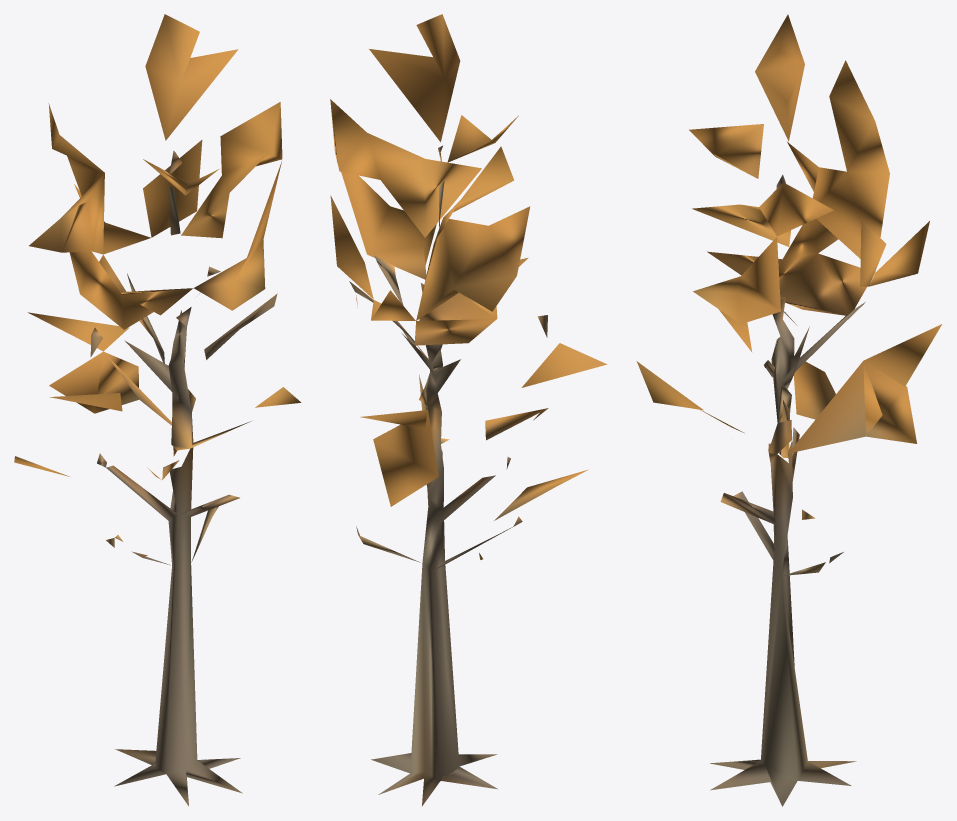
File: ginkgo_a_l2.glb
3 views of the same model, side by side, from view 1: azimuth 30°, elevation 25°; view 2: azimuth 150°, elevation 25°; view 3: azimuth 270°, elevation 25° (orthographic).
Visible parts, largest first — view 1: crown, trunk; view 2: crown, trunk; view 3: crown, trunk.
Part boxes in pixels (<box>): crown: <box>14,14,301,479</box>; trunk: <box>90,150,277,806</box>; crown: <box>330,14,607,520</box>; trunk: <box>349,145,547,806</box>; crown: <box>636,14,941,453</box>; trunk: <box>709,174,865,806</box>.
Size of the model in its own units: 3.98 by 11.05 by 4.05.
